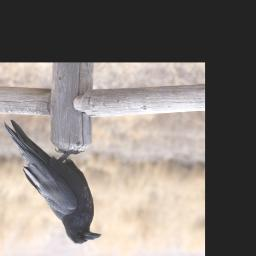Crow: (2, 117, 102, 245)
